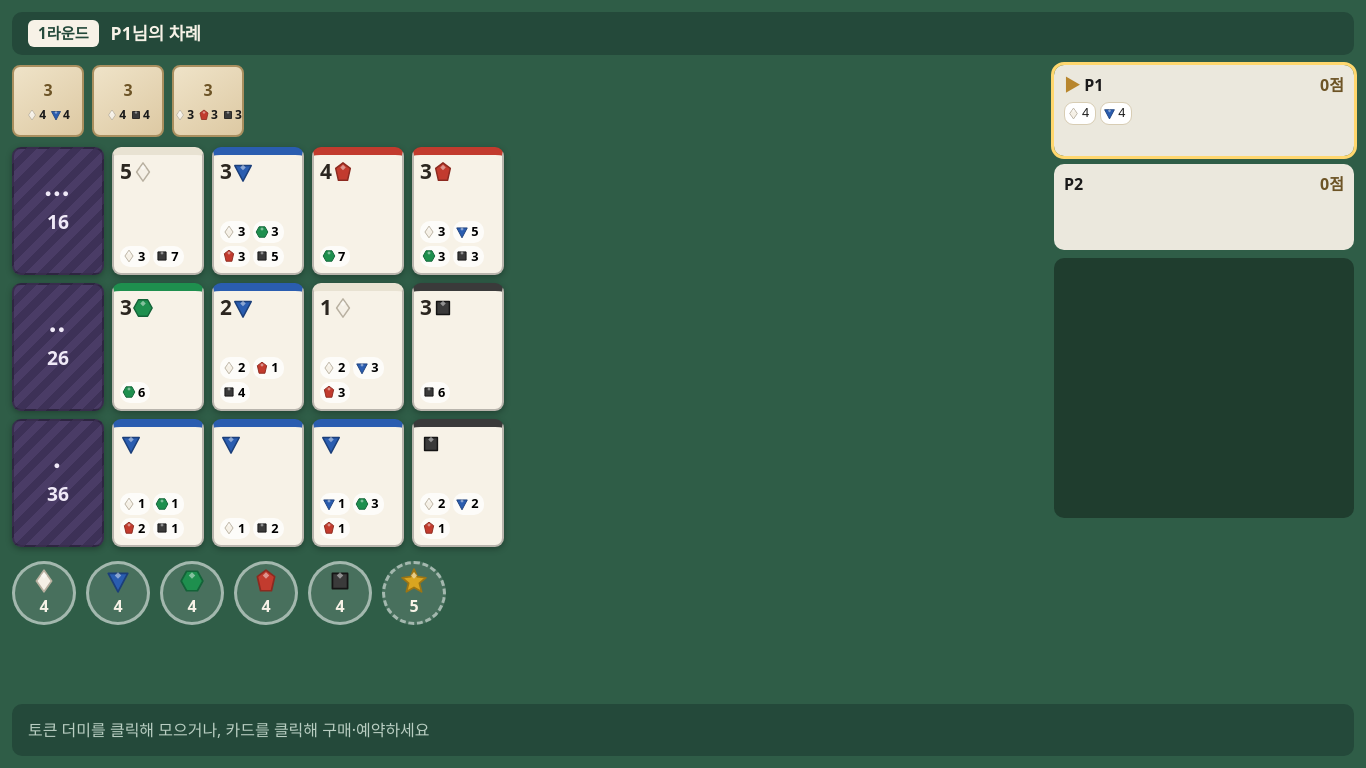
UI 스모크 › 반납 모달이 강제로 열리고 정확한 개수를 채워야 확정된다
This screenshot has width=1366, height=768.
Click the button named "루비 토큰" at (266, 593), box top-left (234, 561), bottom-right (298, 625)
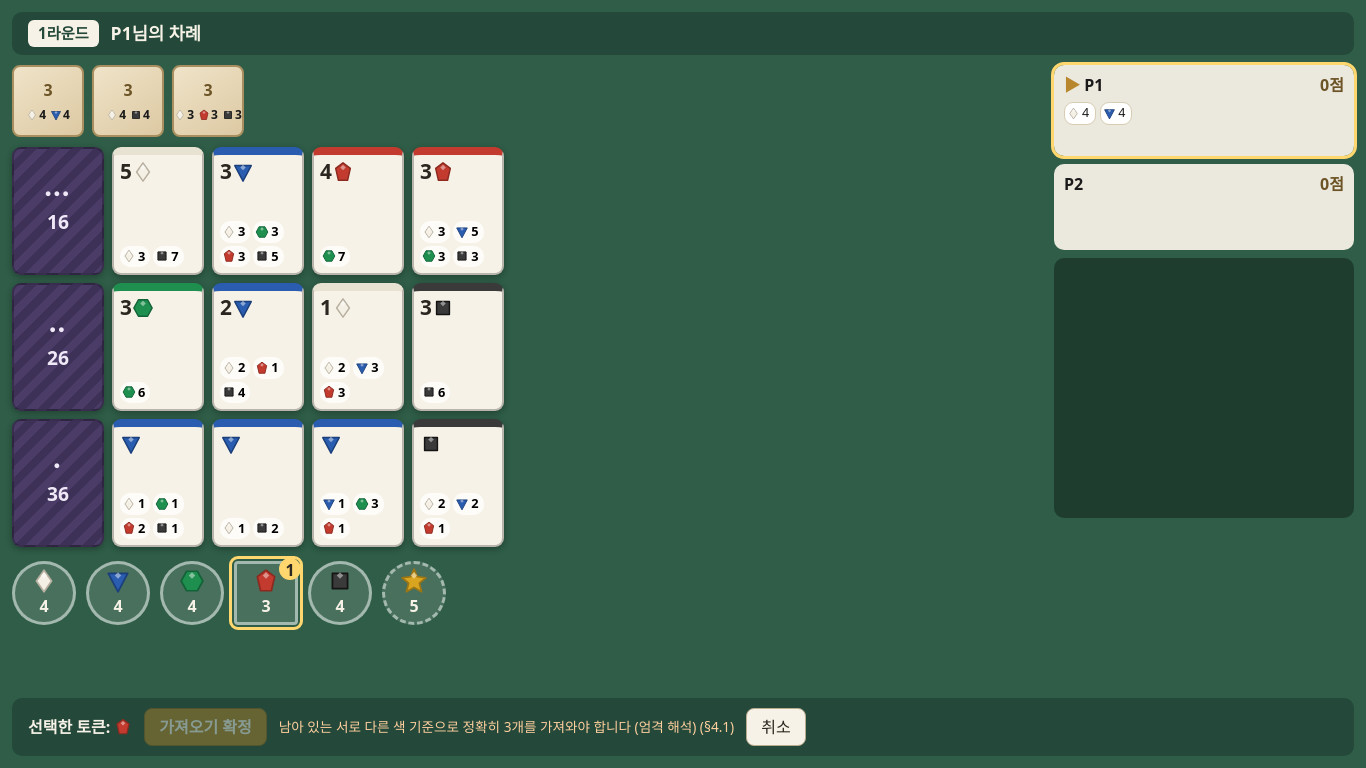
Click the button named "에메랄드 토큰" at (192, 593), box top-left (160, 561), bottom-right (224, 625)
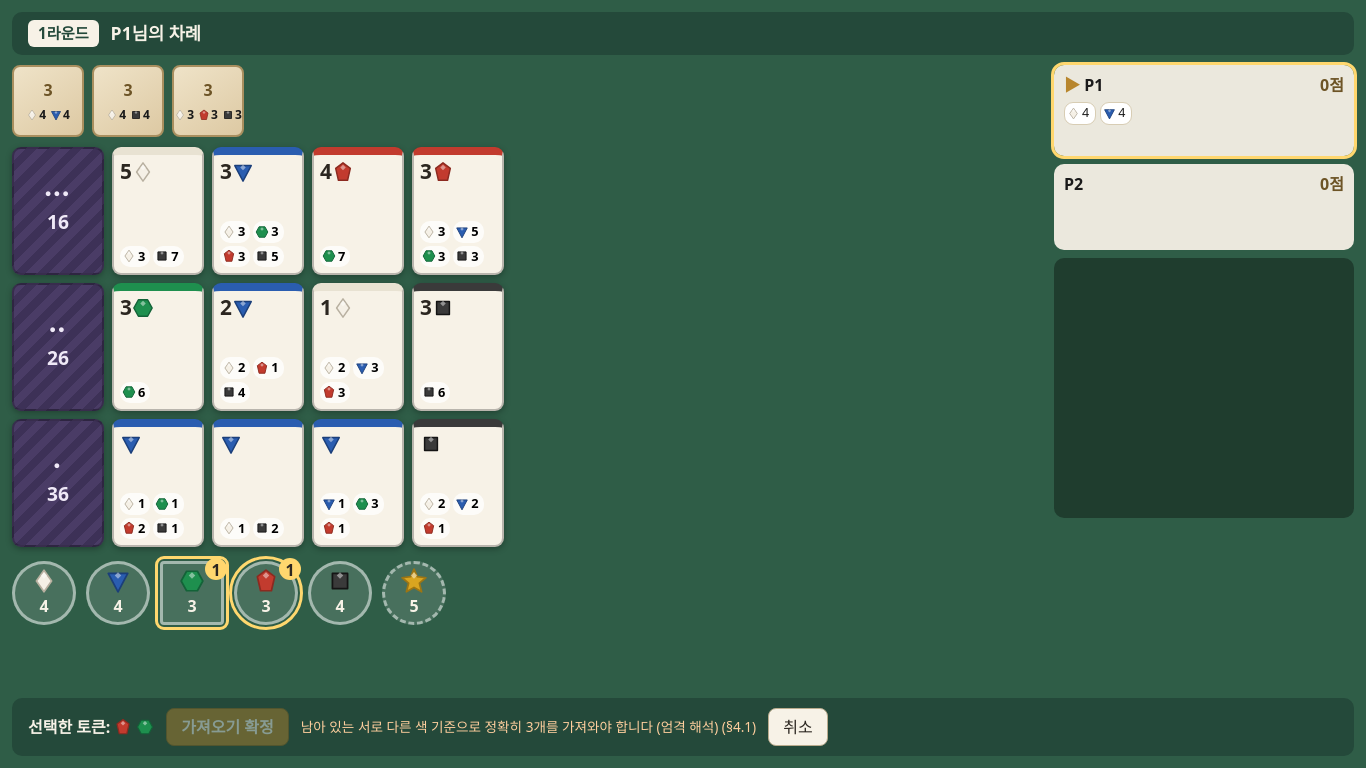
Click the button named "오닉스 토큰" at (340, 593), box top-left (308, 561), bottom-right (372, 625)
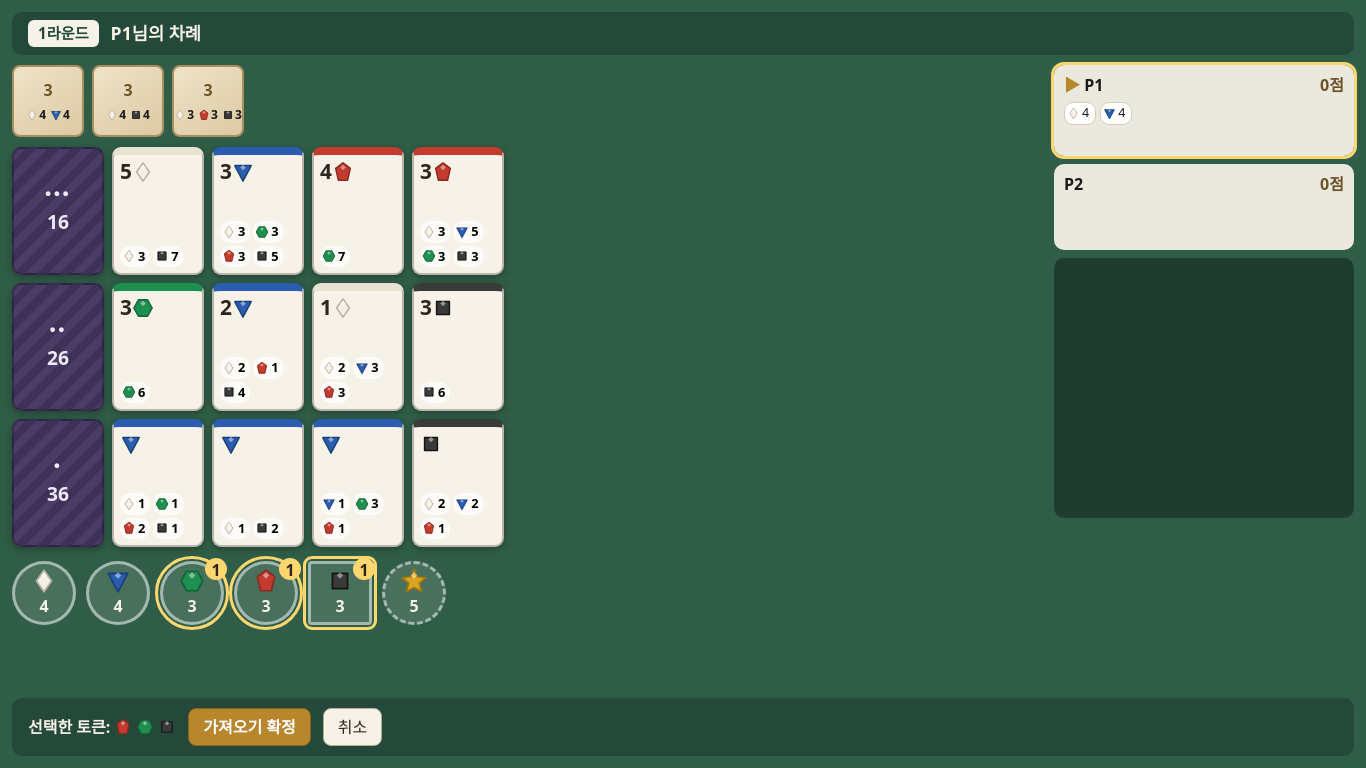
Click the button "가져오기 확정" at (250, 727), box top-left (188, 708), bottom-right (311, 746)
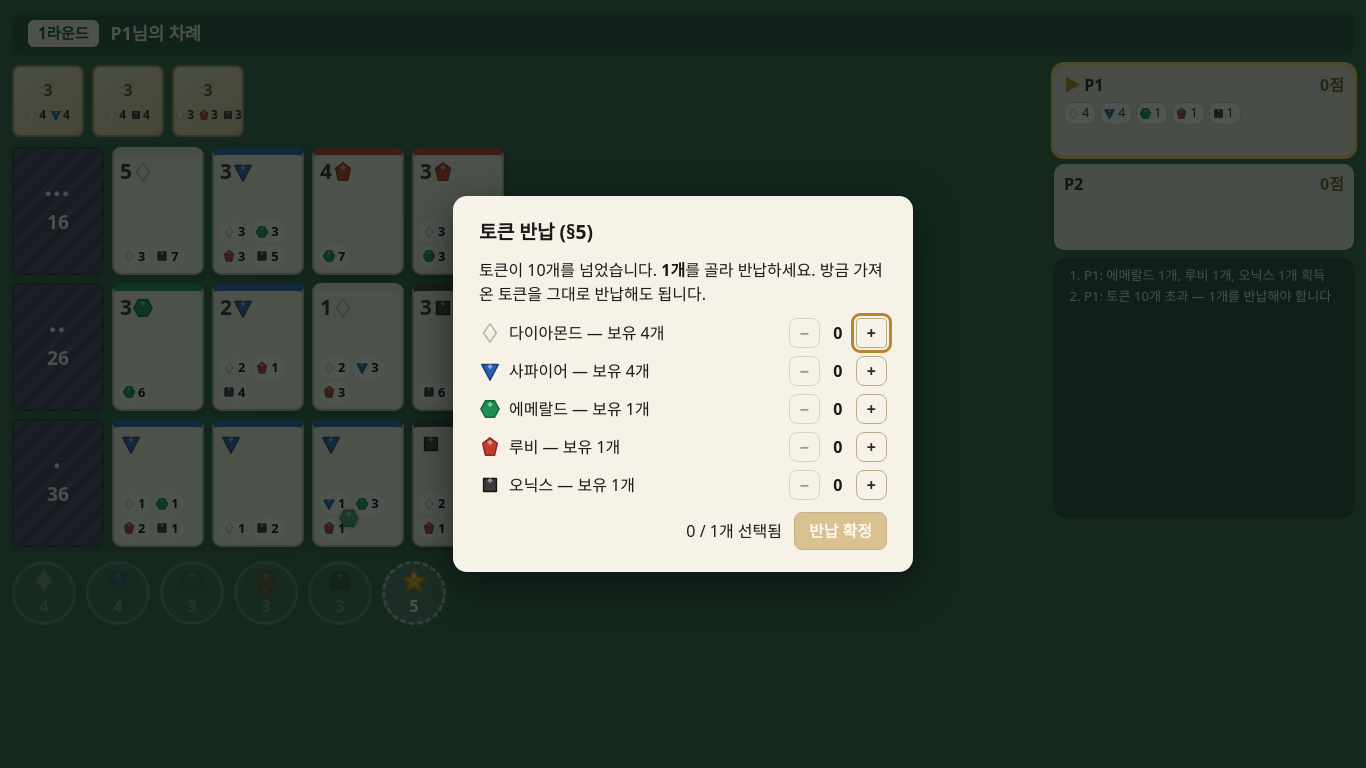
Now the button "반납 확정" is disabled, box top-left (794, 512), bottom-right (887, 550)
Click the button named "다이아몬드 반납 늘리기" at (871, 333), box top-left (856, 318), bottom-right (887, 348)
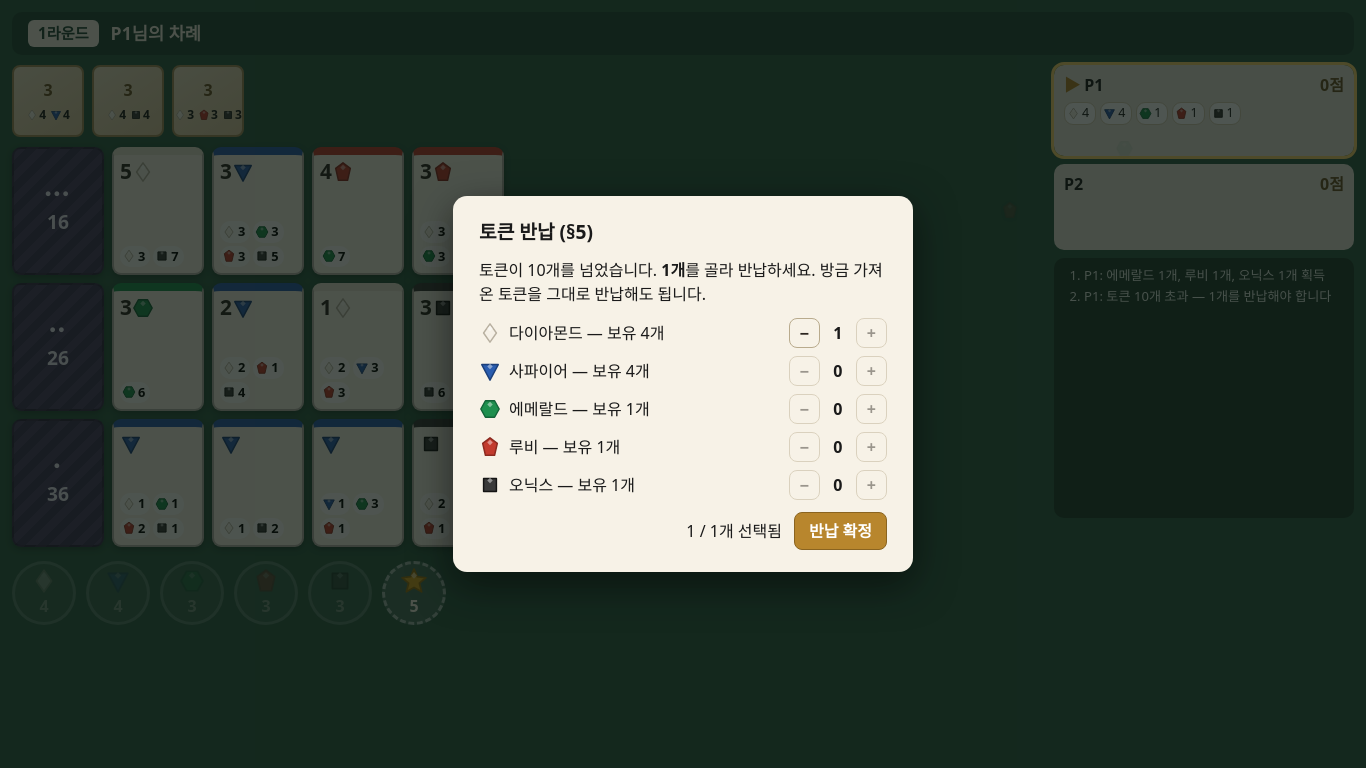
Now the button "반납 확정" is enabled
Click the button "반납 확정" at (840, 531), box top-left (794, 512), bottom-right (887, 550)
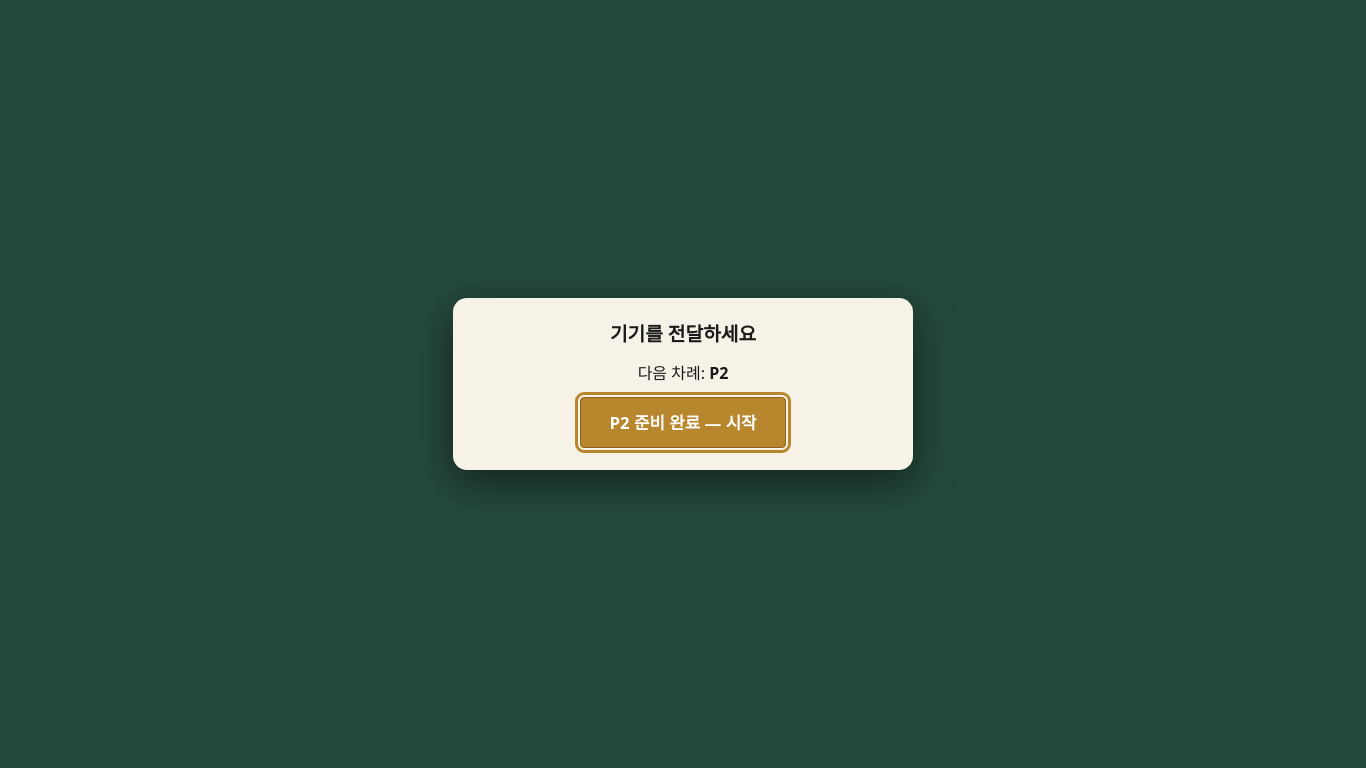
Now the heading "토큰 반납" is gone
